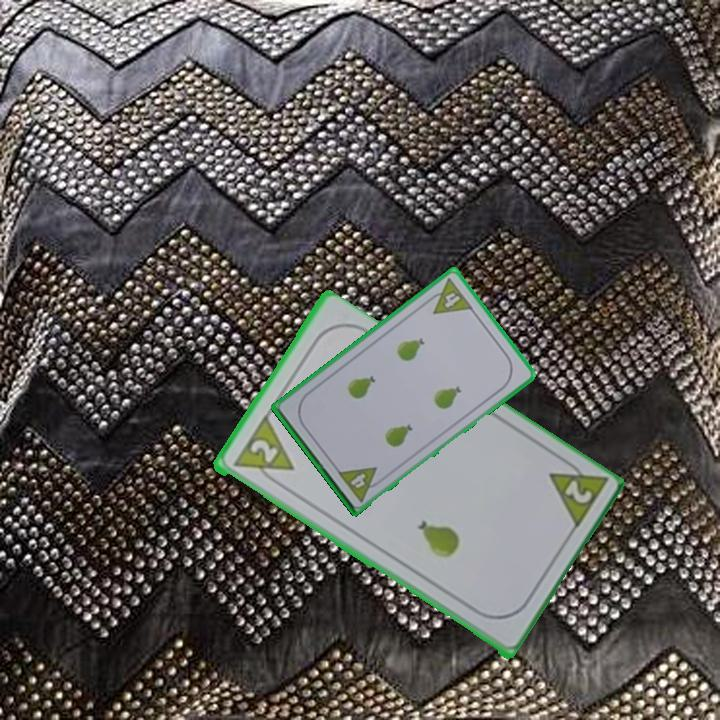2p: (544, 452, 610, 534), (227, 414, 296, 491)
4p: (422, 274, 476, 317), (334, 463, 387, 505)
